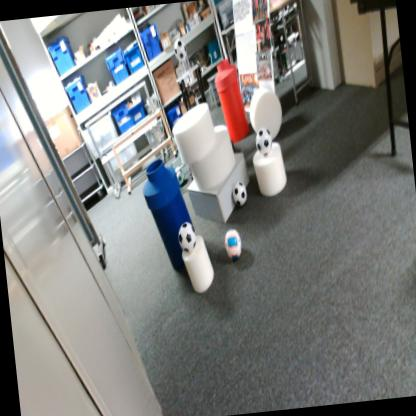ball: (223, 226, 244, 260), (177, 221, 197, 254), (255, 128, 273, 156), (232, 181, 247, 206), (173, 38, 187, 62), (176, 164, 186, 184)
